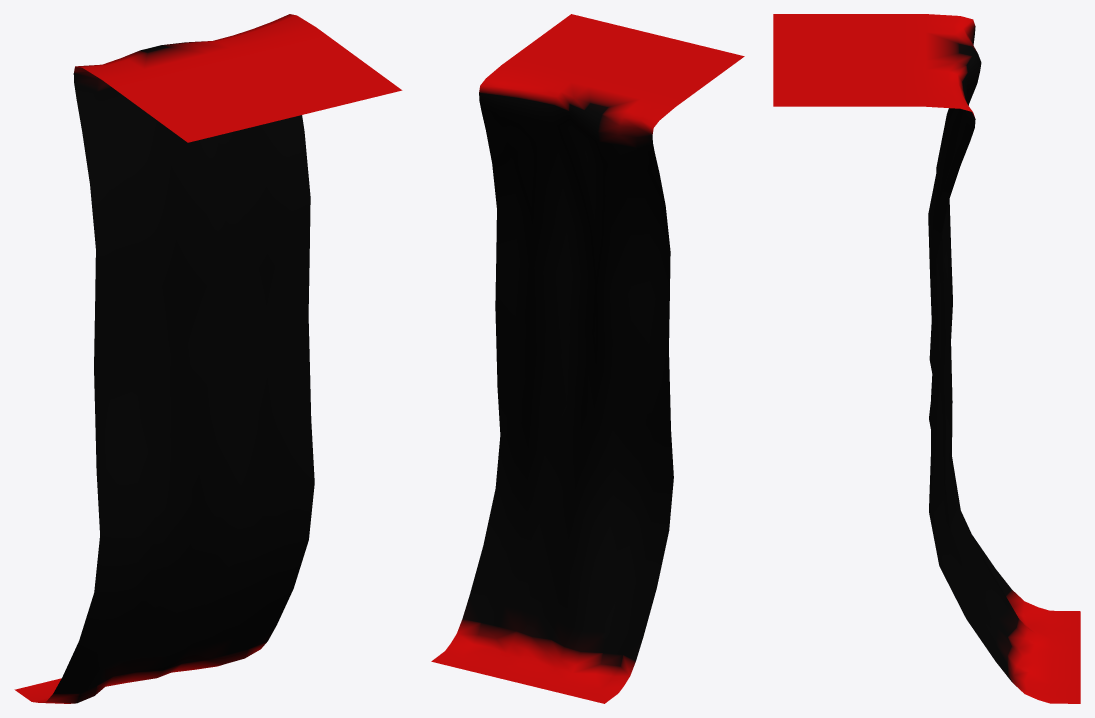
Rendered from GroundCliff00A 3M Foreground.fbx.
3 views of the same model, side by side, from view 1: azimuth 30°, elevation 25°; view 2: azimuth 150°, elevation 25°; view 3: azimuth 270°, elevation 25° (orthographic). The views are drawn at different scales.
Visible parts, largest first — view 1: GroundCliff00A 3M Foreground; view 2: GroundCliff00A 3M Foreground; view 3: GroundCliff00A 3M Foreground.
Part boxes in pixels (bbox=[...]): GroundCliff00A 3M Foreground: bbox=[14, 14, 402, 703]; GroundCliff00A 3M Foreground: bbox=[431, 14, 744, 703]; GroundCliff00A 3M Foreground: bbox=[773, 14, 1080, 703].
Size of the model in its own units: 1 by 3 by 1.4.
